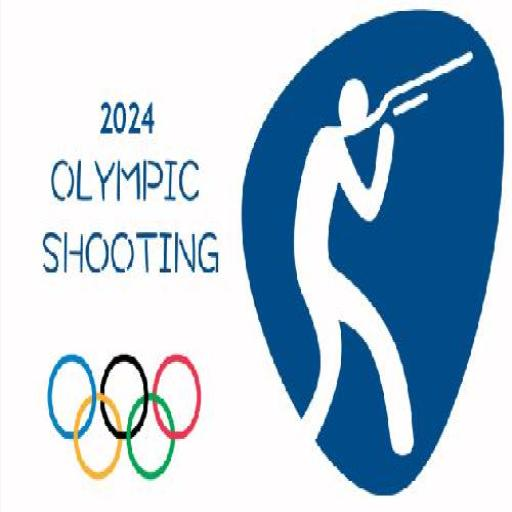shooting: (290, 73, 417, 463)
